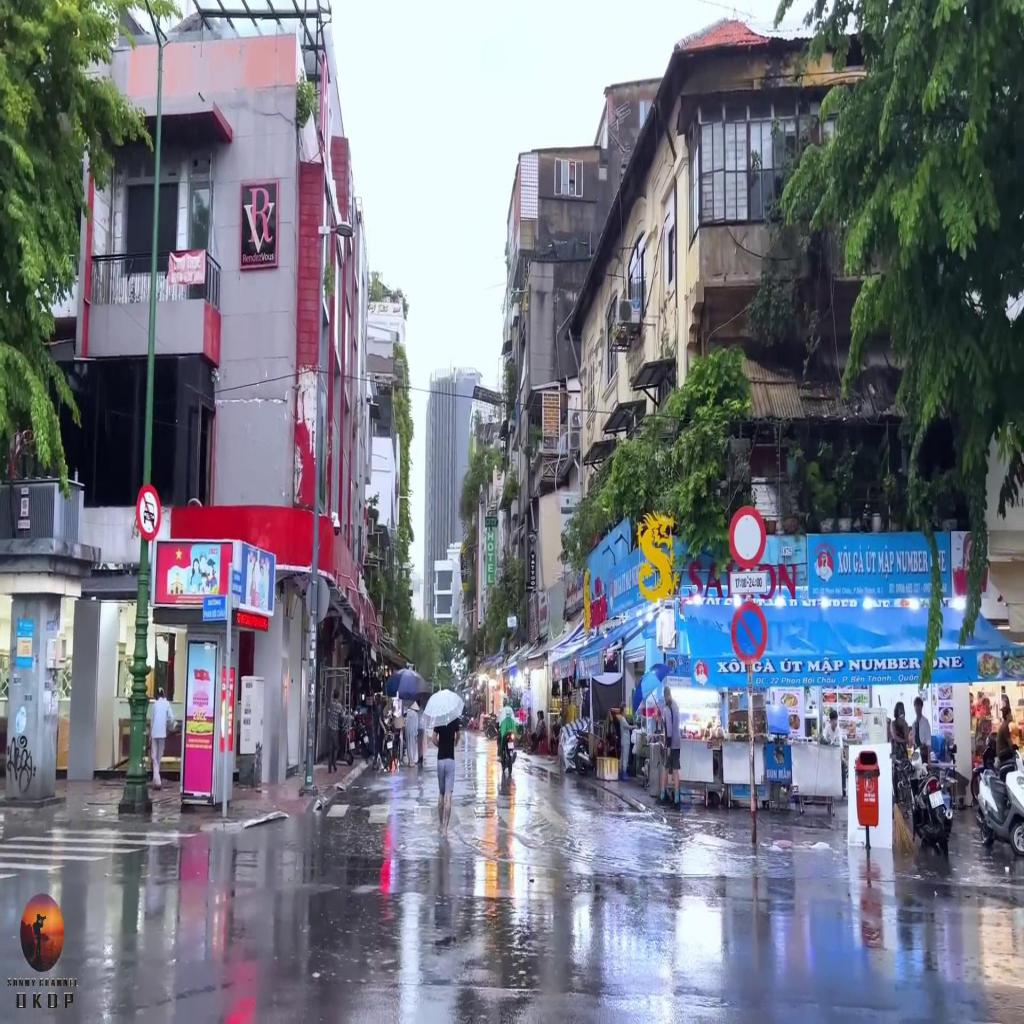cam_do_xe: (732, 598, 768, 662)
cam_o_to: (137, 486, 161, 542)
khac: (728, 505, 766, 568), (729, 572, 766, 594)
